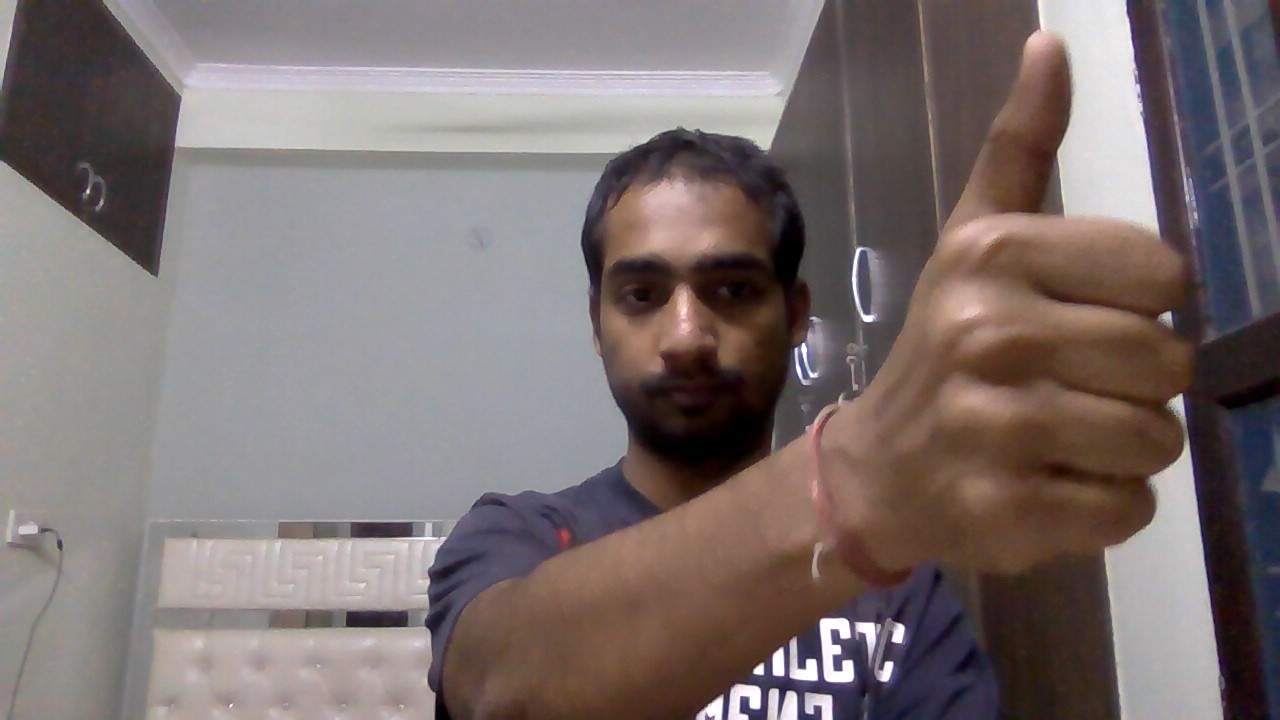Save: (844, 12, 1212, 589)
